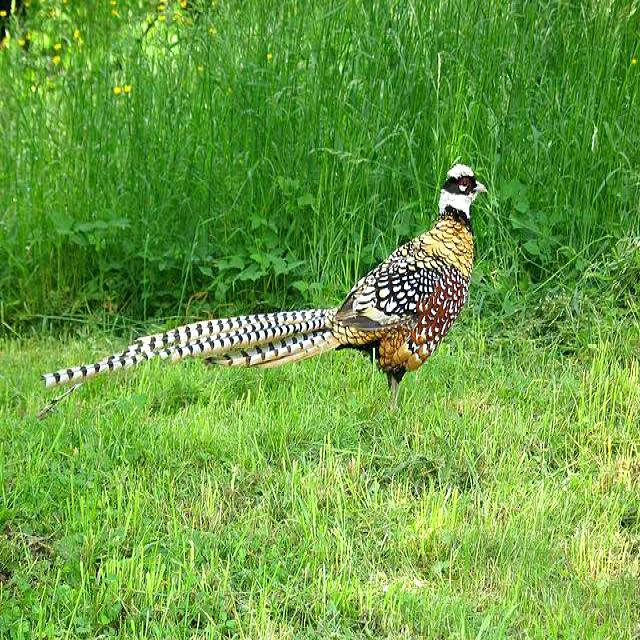Reeves-s Pheasant: (38, 308, 340, 419)
